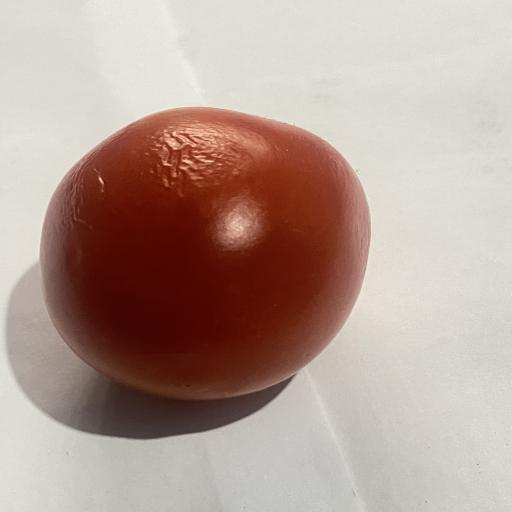overipe: (40, 107, 370, 400)
